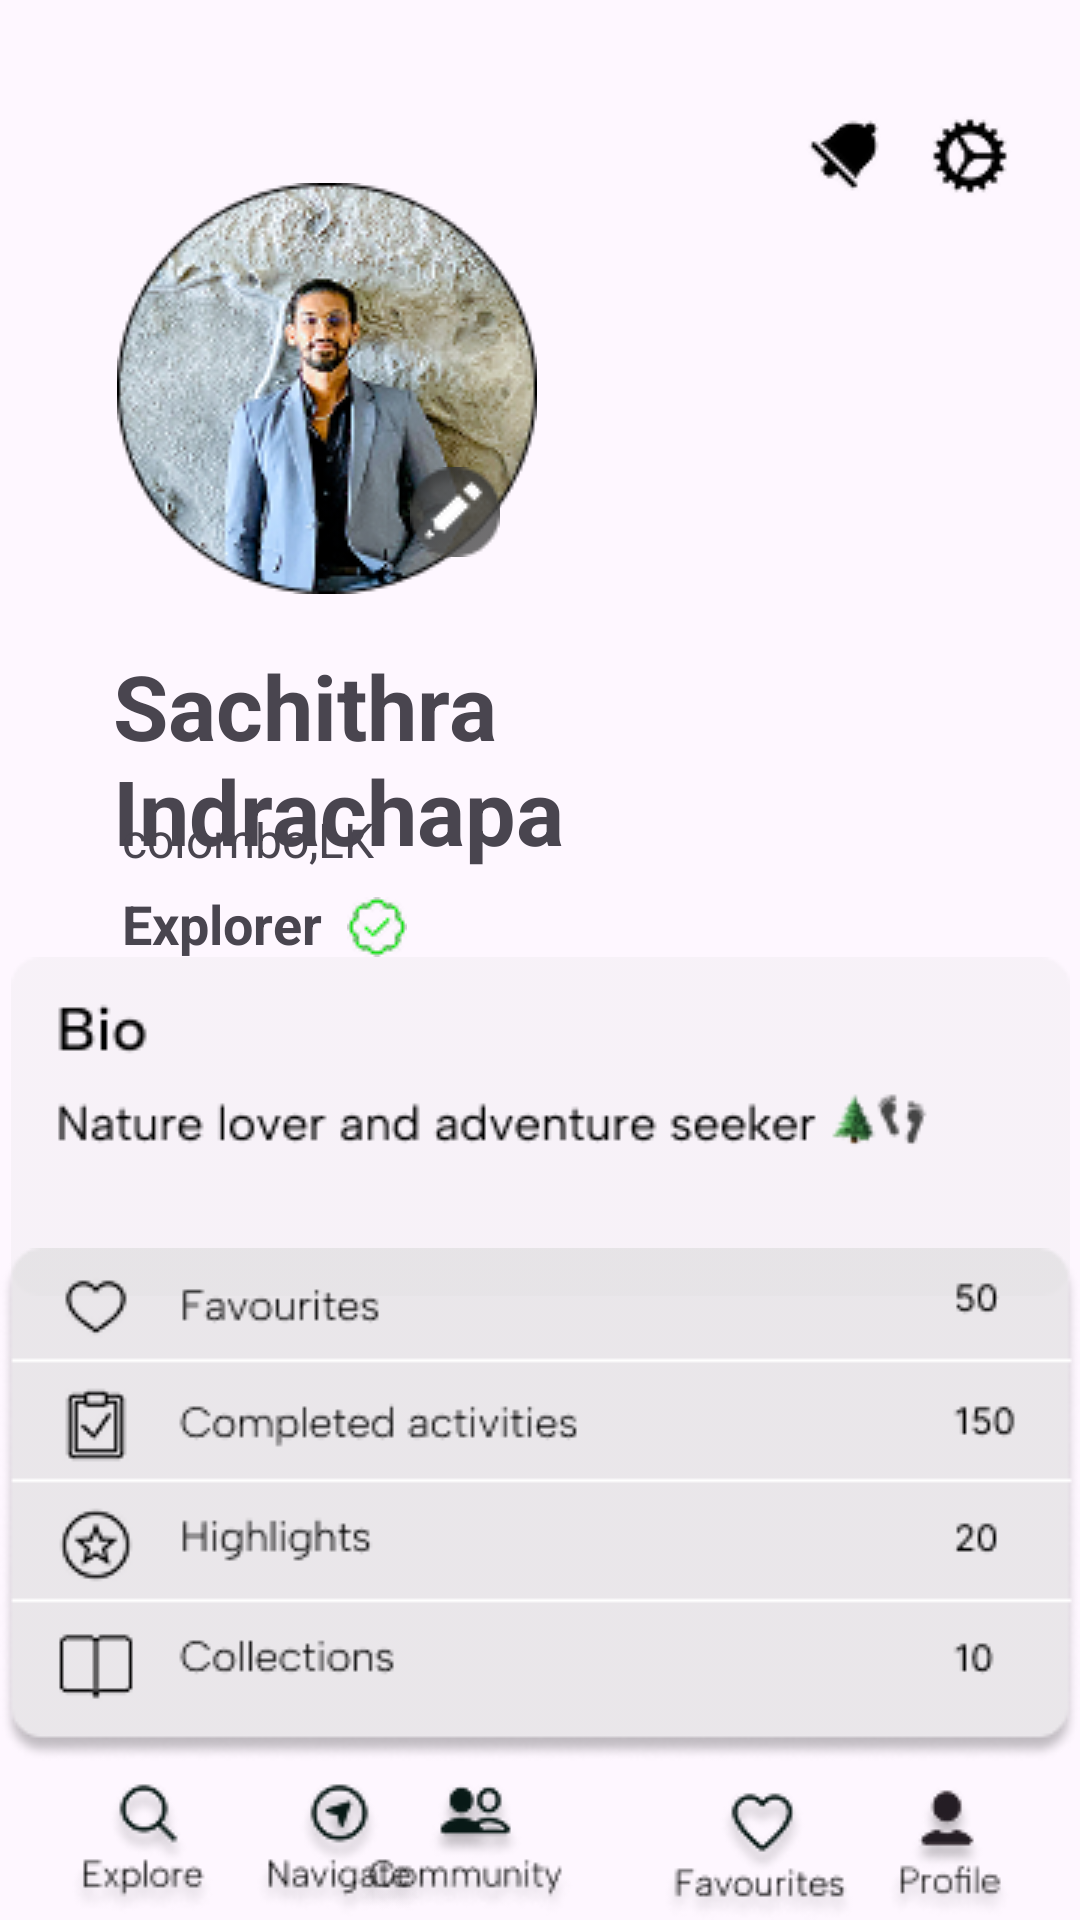

Screen size 1080*1920. Icon name, then its box in pixels as [left=x1, top=y1, right=x2, bottom=y2]:
notification: [left=810, top=121, right=878, bottom=189]
settings: [left=933, top=119, right=1007, bottom=193]
verifiedaccount: [left=347, top=897, right=407, bottom=957]
